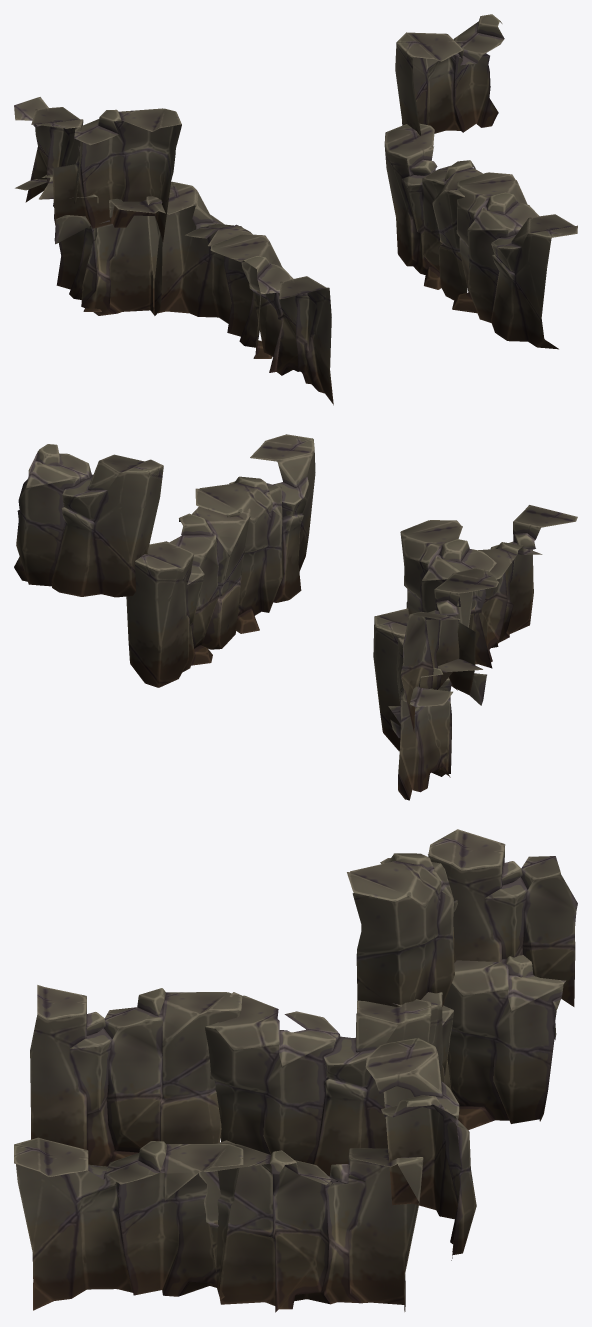
File: CombinedMeshes_CombinedMeshes_Rocks.fbx
3 renders of one model, top to bottom at view 1: azimuth 30°, elevation 25°; view 2: azimuth 150°, elevation 25°; view 3: azimuth 270°, elevation 25°, orthographic. The views are drawn at different scales.
Visible parts, largest first — view 1: CombinedMeshes_CombinedMeshes_Rocks__1_; view 2: CombinedMeshes_CombinedMeshes_Rocks__1_; view 3: CombinedMeshes_CombinedMeshes_Rocks__1_.
Boxes of the visible parts, bbox=[...] form: CombinedMeshes_CombinedMeshes_Rocks__1_: bbox=[14, 14, 577, 405]; CombinedMeshes_CombinedMeshes_Rocks__1_: bbox=[14, 434, 577, 800]; CombinedMeshes_CombinedMeshes_Rocks__1_: bbox=[14, 829, 577, 1312].
Bounding box in the file's own units: 4069 × 1794 × 3300.
1 material, 1 textured.
